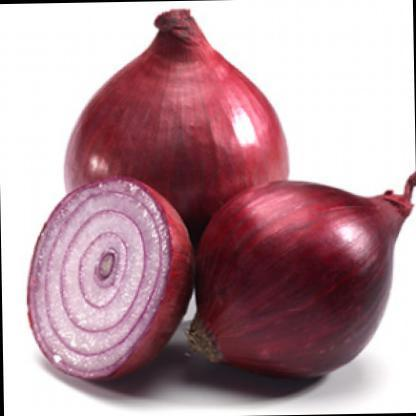onion: (188, 161, 415, 400)
